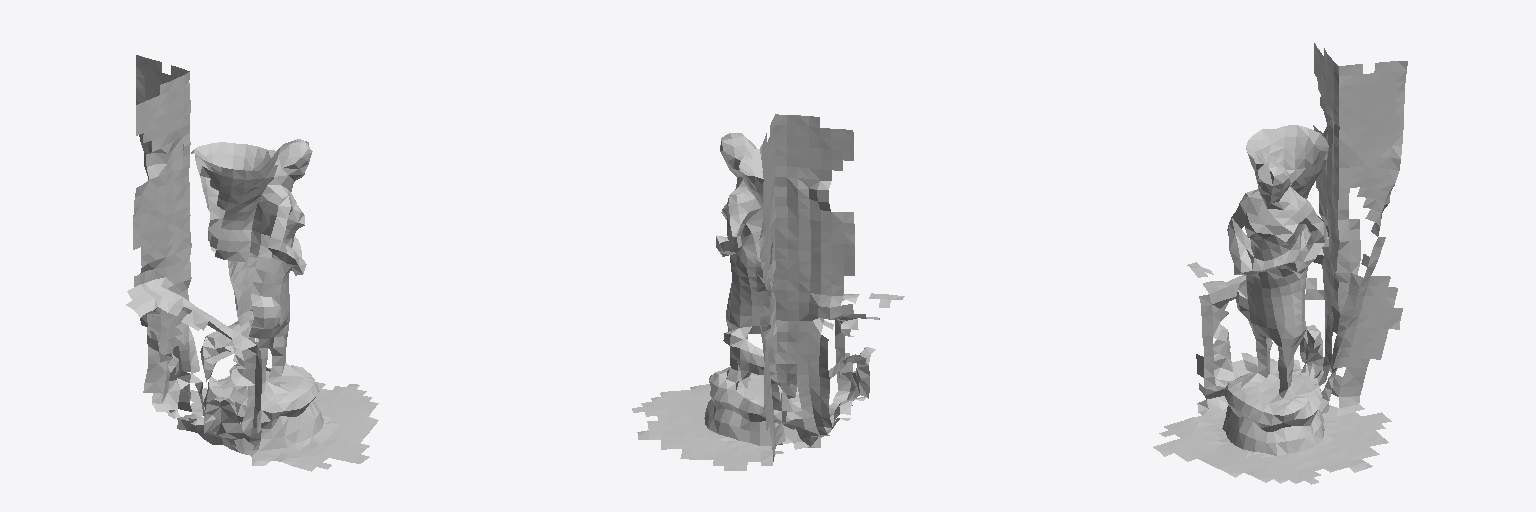
The model's file is low poly - Ifugao_Hunter_Statue_Woman_3.obj.
3 views of the same model, side by side, from view 1: azimuth 30°, elevation 25°; view 2: azimuth 150°, elevation 25°; view 3: azimuth 270°, elevation 25° (orthographic).
Size of the model in its own units: 1.66 by 2.27 by 1.52.